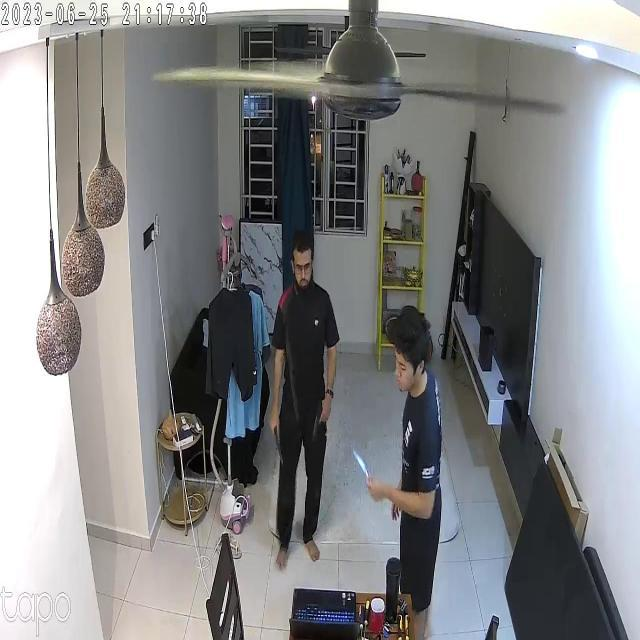Gun: (308, 405, 332, 449)
Knife: (338, 441, 385, 492)
